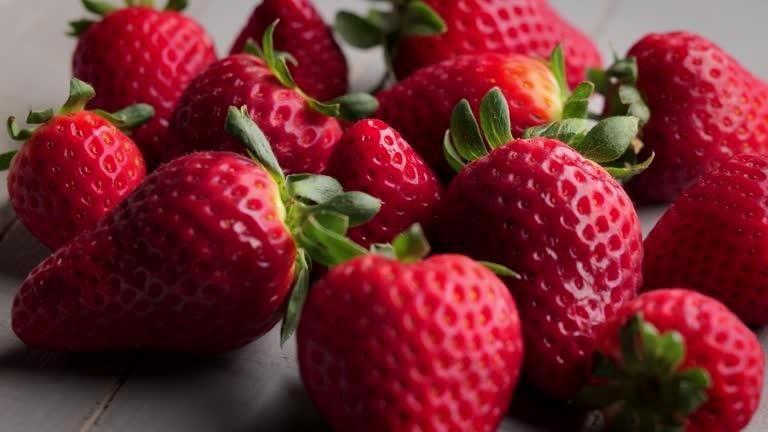peas: (2, 1, 765, 429)
raspberry: (10, 148, 299, 355), (371, 47, 569, 179)
strawberry: (436, 86, 645, 397), (295, 222, 525, 431), (164, 19, 377, 176), (605, 29, 767, 204), (575, 287, 765, 431), (1, 76, 153, 251), (66, 0, 218, 163), (641, 152, 767, 328), (323, 117, 443, 252), (228, 0, 349, 103)
